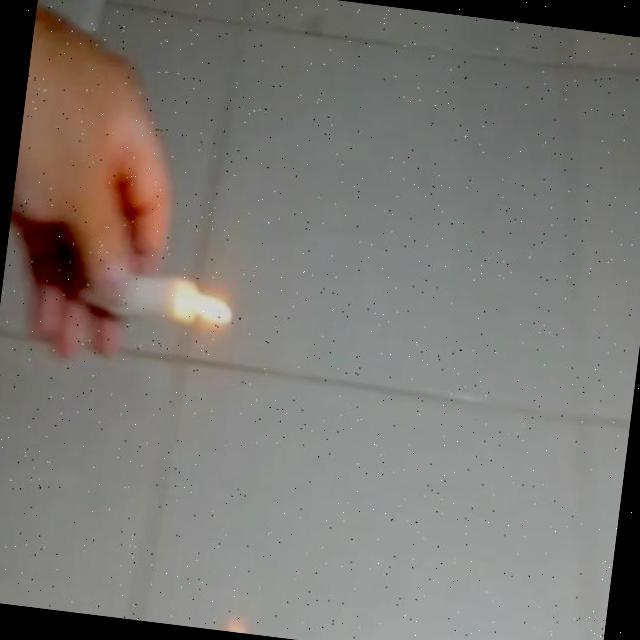fire: (185, 287, 241, 335)
